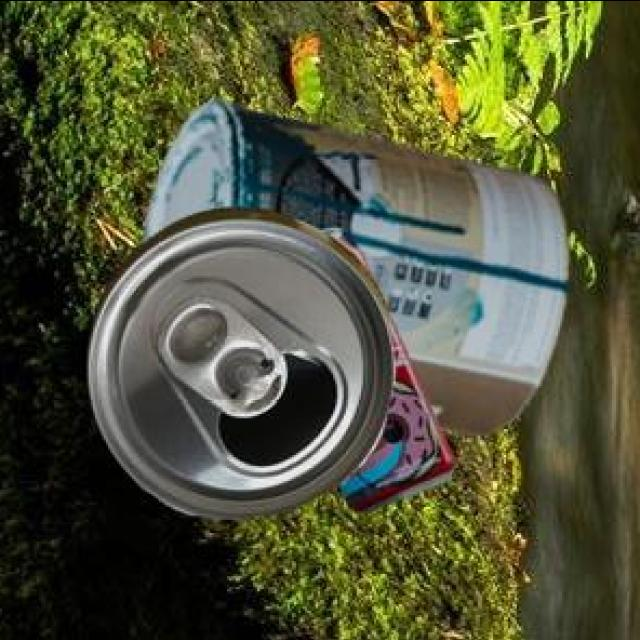logam: (146, 103, 572, 438), (90, 211, 399, 522), (325, 230, 459, 516)
